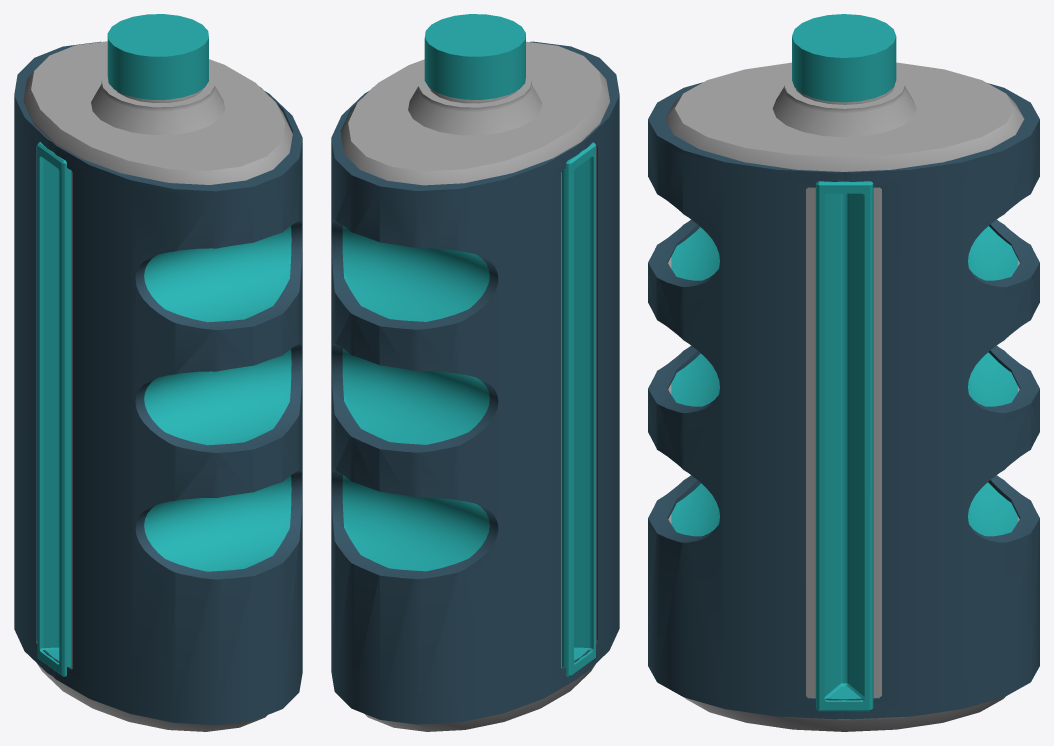
The model's file is bottle sci fi 1.fbx.
3 renders of one model, left to right at view 1: azimuth 30°, elevation 25°; view 2: azimuth 150°, elevation 25°; view 3: azimuth 270°, elevation 25°, orthographic. The views are drawn at different scales.
Parts seen in each view (by area): view 1: pCylinder25; view 2: pCylinder25; view 3: pCylinder25.
Boxes of the visible parts, bbox=[...] form: pCylinder25: bbox=[14, 14, 302, 731]; pCylinder25: bbox=[331, 14, 619, 731]; pCylinder25: bbox=[648, 14, 1039, 731].
Size of the model in its own units: 1.43 by 3.97 by 2.17.
